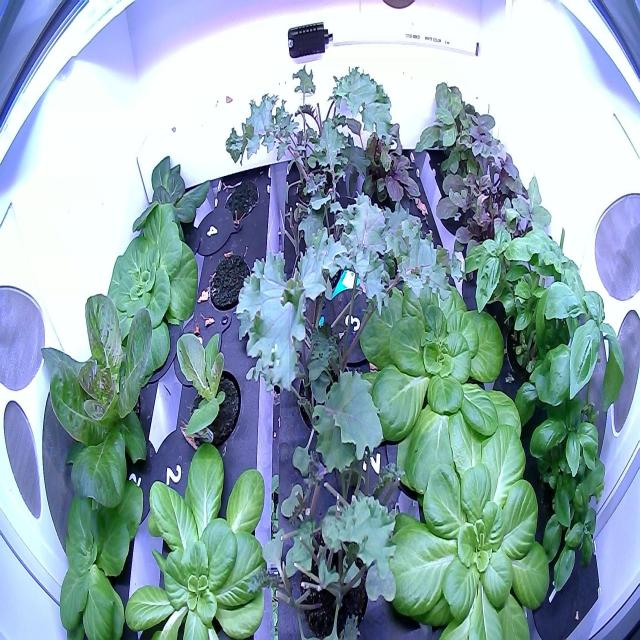young: (350, 254, 536, 502), (373, 396, 553, 640), (113, 438, 274, 638), (33, 284, 164, 528), (89, 188, 209, 393), (51, 468, 146, 639), (165, 316, 252, 456), (121, 144, 219, 246)
